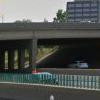Bridge: (7, 13, 99, 67)
